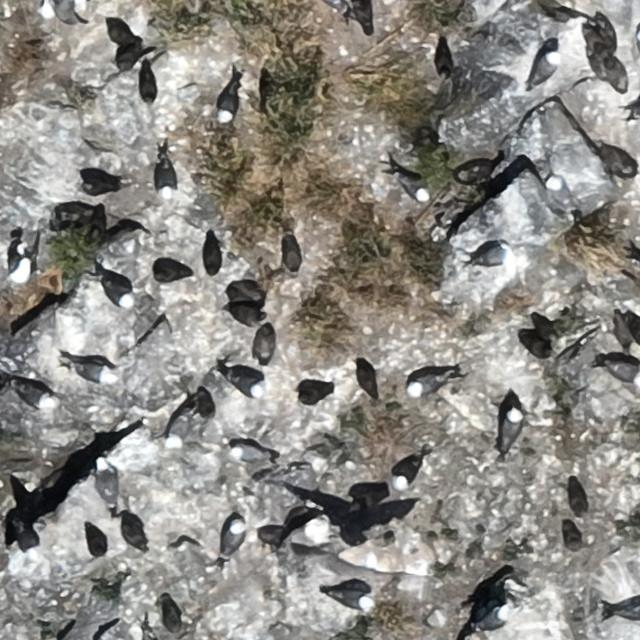umineko: (547, 174, 581, 224), (282, 519, 326, 554), (467, 606, 510, 637), (96, 456, 118, 512), (474, 244, 518, 271), (7, 236, 31, 284), (103, 278, 134, 307), (502, 406, 522, 446), (330, 588, 370, 608), (229, 372, 262, 396), (16, 385, 50, 408), (398, 177, 428, 203), (228, 304, 265, 325), (394, 458, 419, 488), (607, 362, 640, 384), (74, 362, 109, 382), (218, 86, 238, 120), (408, 374, 442, 394), (224, 521, 244, 555), (535, 50, 557, 80), (166, 413, 188, 442), (230, 445, 262, 462), (158, 164, 175, 196), (18, 532, 37, 554)
